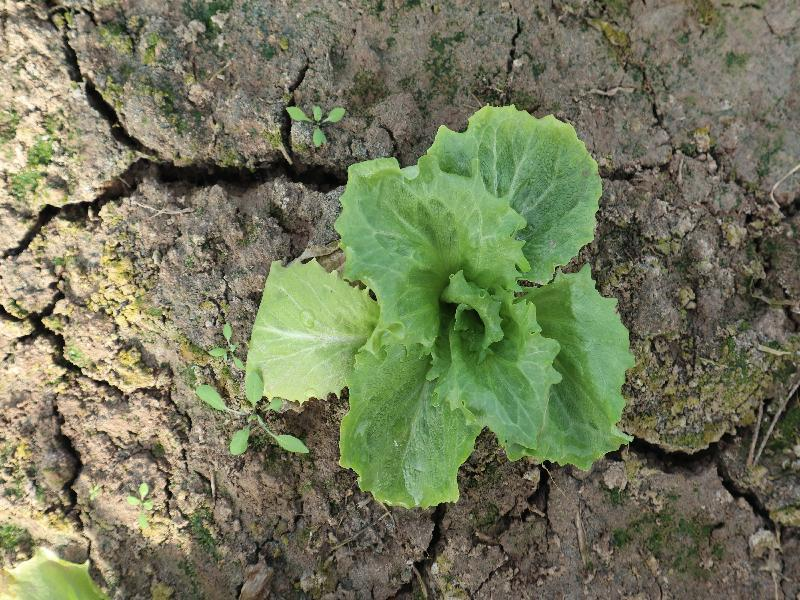lettuce: (244, 103, 636, 508)
